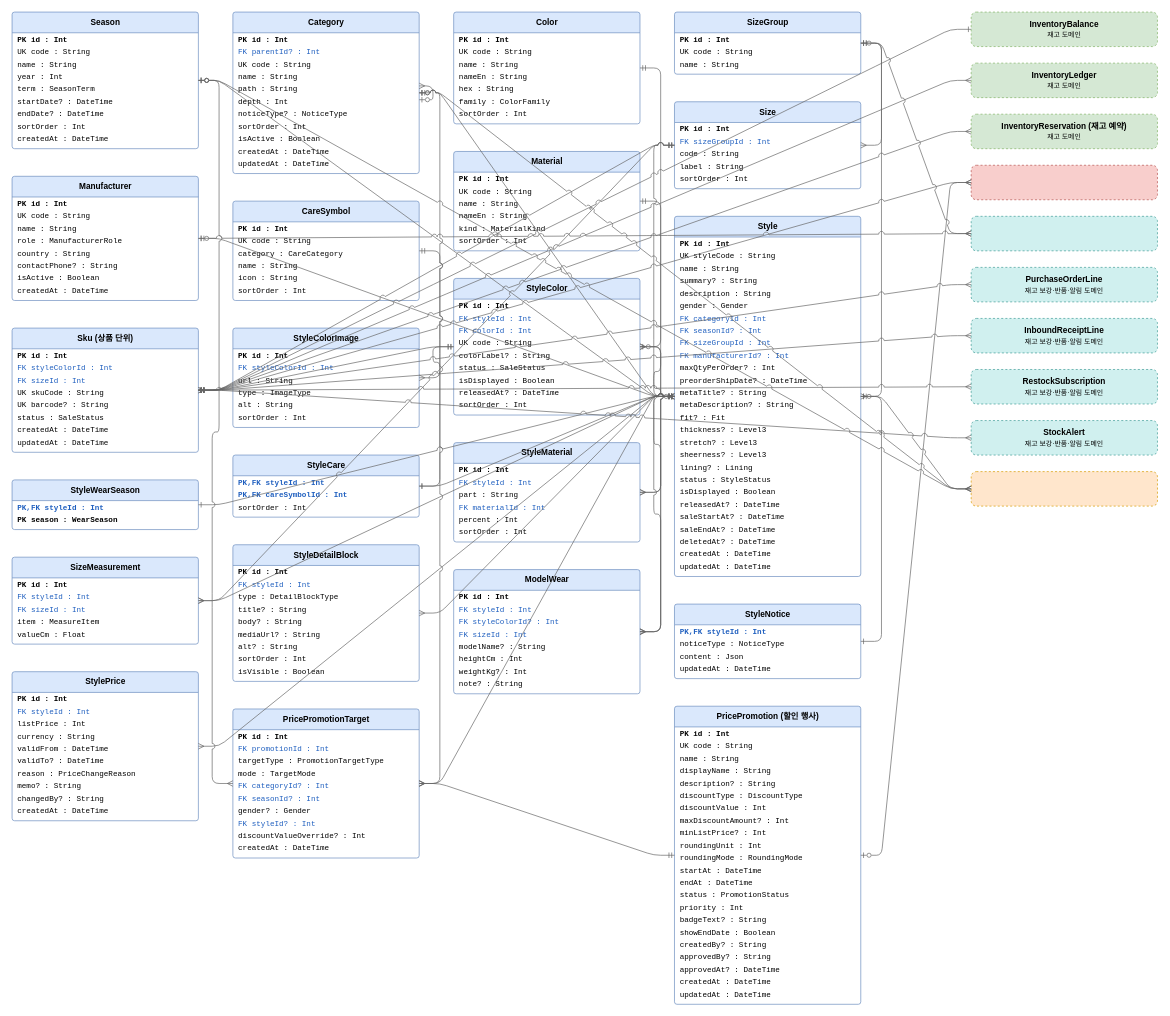
Some shapes in this 1170 by 1016 pixel diagram are drawn without their labels. The centre of each missing label's shape, as x and y in pixels:
"CouponPolicyTarget 쿠폰 도메인" belongs at (x=1063, y=488).
"OrderItem (주문 상품 줄) 주문·비회원 도메인" belongs at (x=1063, y=182).
"PurchaseOrder 재고 보강·반품·알림 도메인" belongs at (x=1063, y=233).
